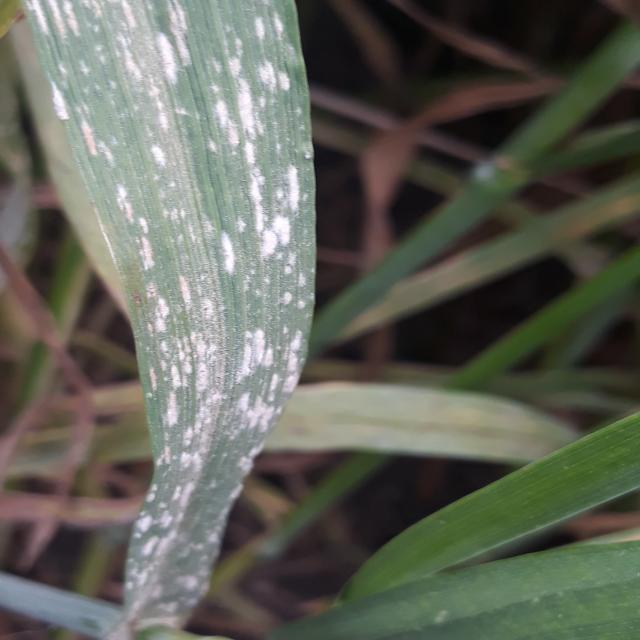powder_mildew: (17, 0, 318, 640)
